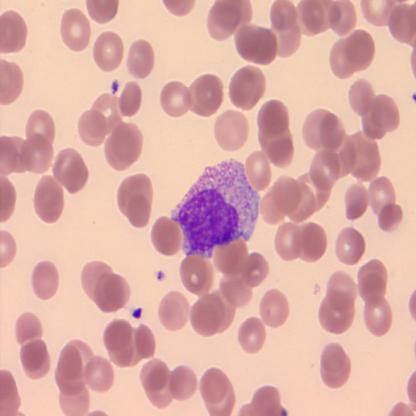Myelocyte: (172, 155, 260, 254)
